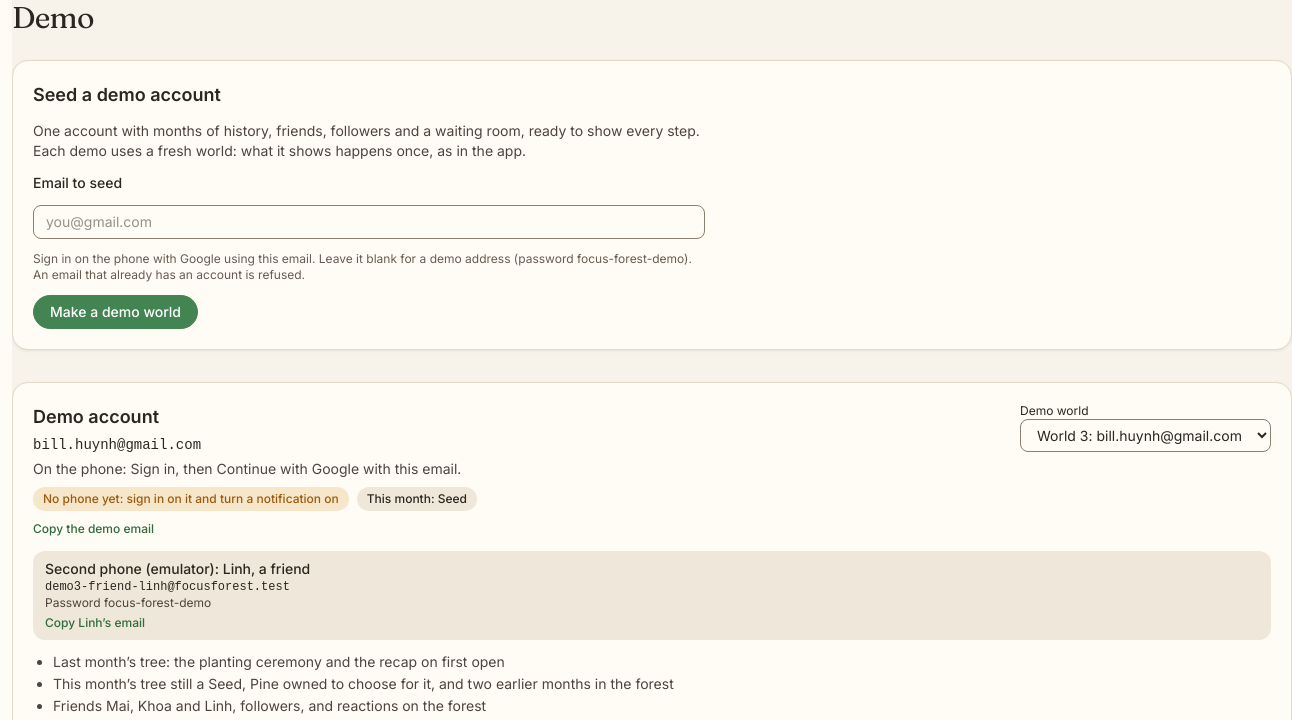
it: demo tools (DM.2) › acts on the newest world, and can switch to an older one
Expected: the text "bill.huynh@gmail.com" is shown, [33,437,201,453]
Select "World 2: old@gmail.com" in the dropdown labelled "Demo world" at point(1146, 436), box [1020,419,1271,452]
(page scrolled)
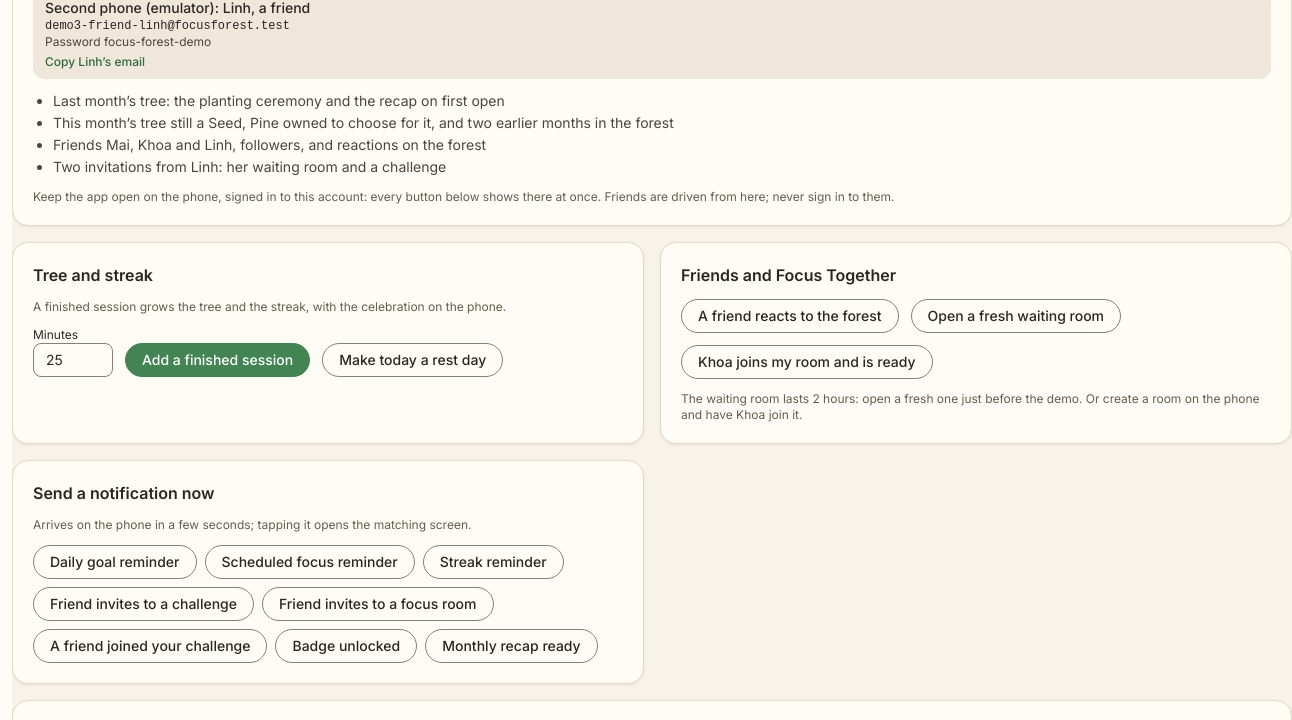
Click the button "Make today a rest day" at point(413, 360), box [322,343,503,377]
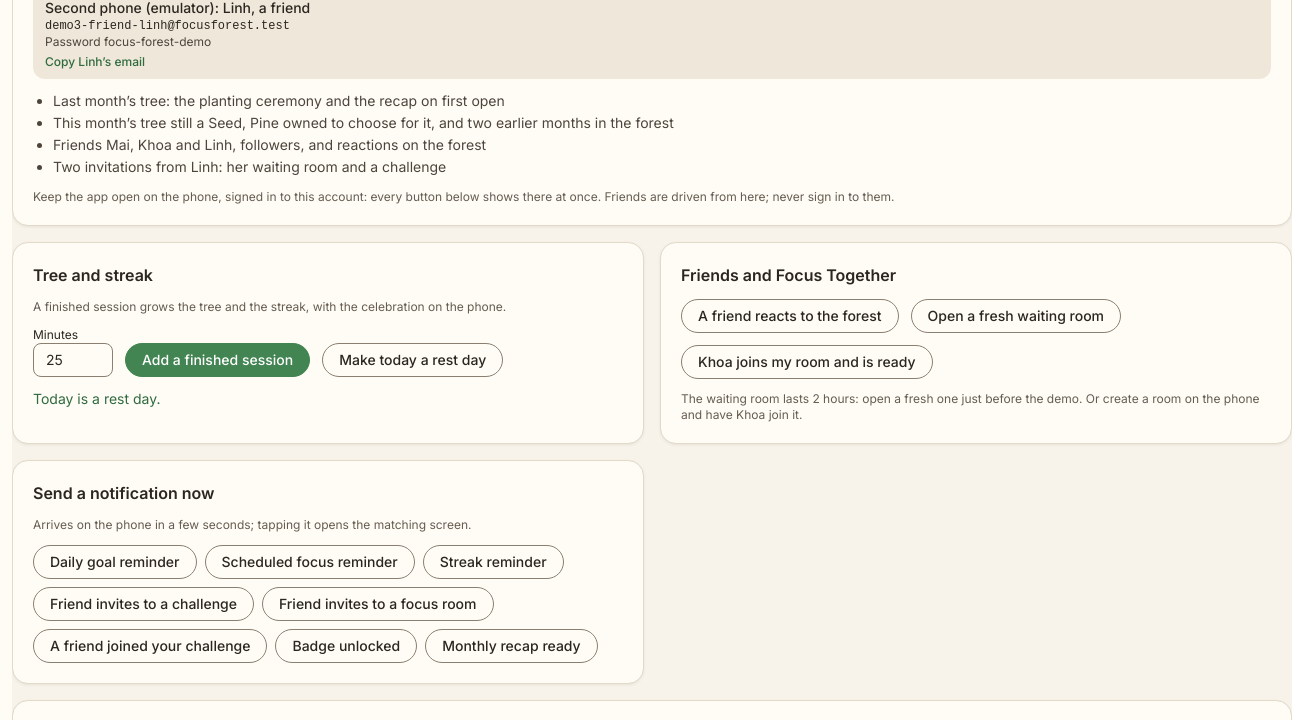
Now the text "Today is a rest day." is shown, box [33,390,160,407]
